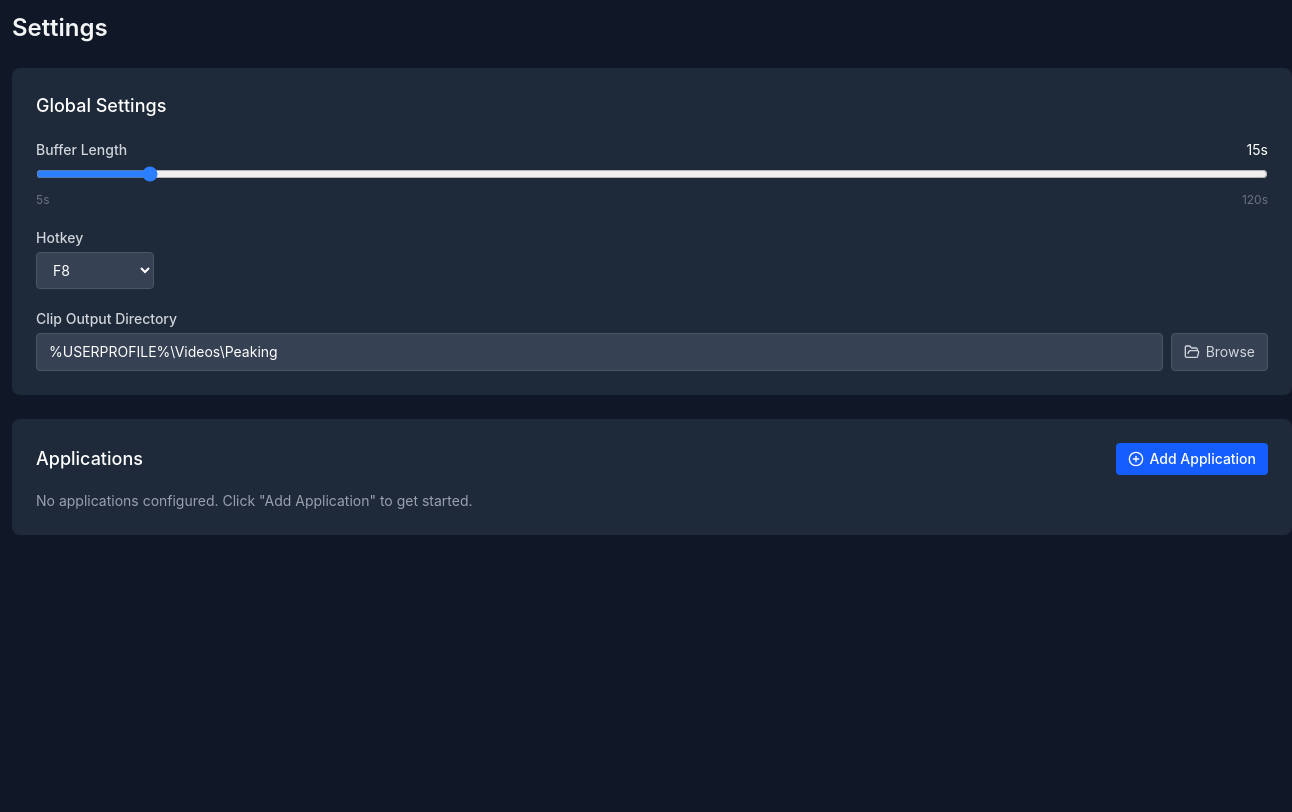
Scenario: Settings › adds app to list and writes config when executable is selected
The image size is (1292, 812).
What coordinates should you click on to do the following:
click the button labelled "Add Application"
I would click on:
 (1192, 459)
Its box is x1=1116 y1=443 x2=1268 y2=475.
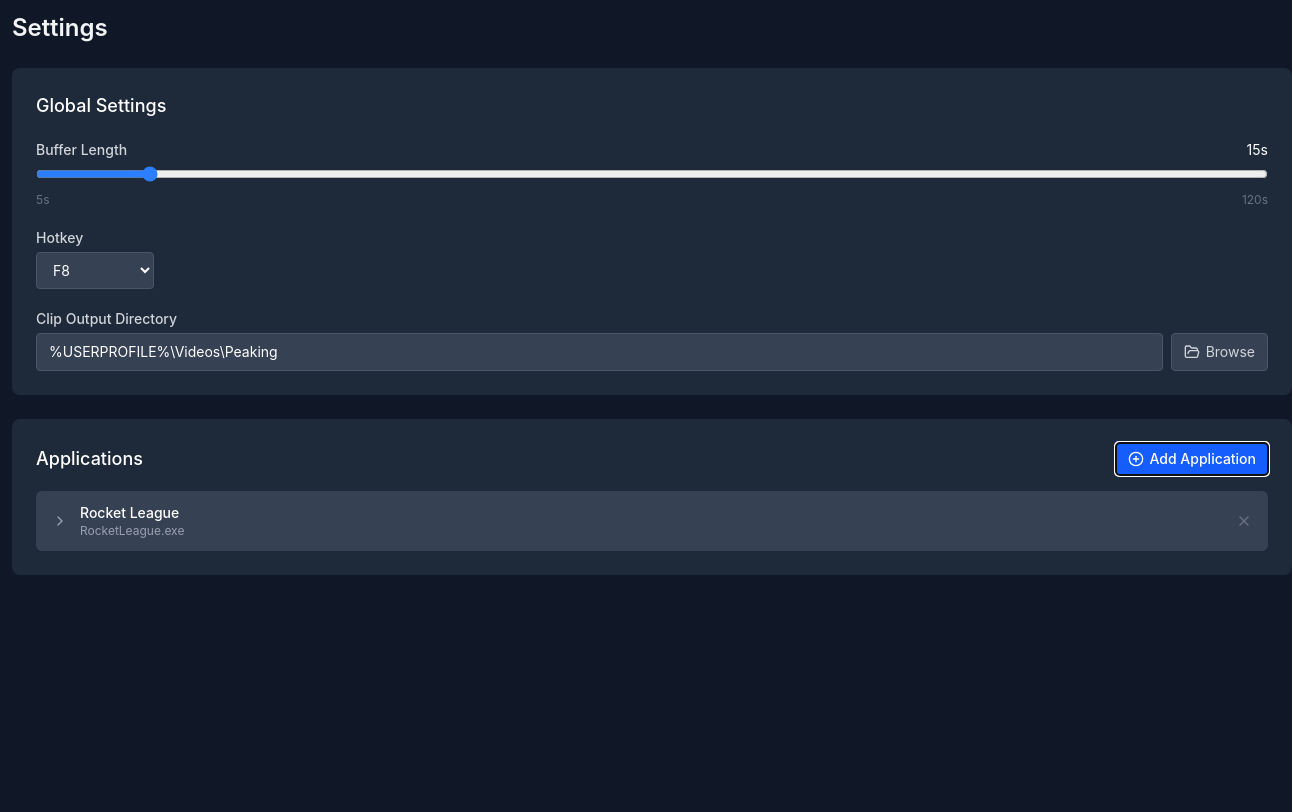
Result: the text "Rocket League" is shown at x1=80 y1=504 x2=179 y2=521
